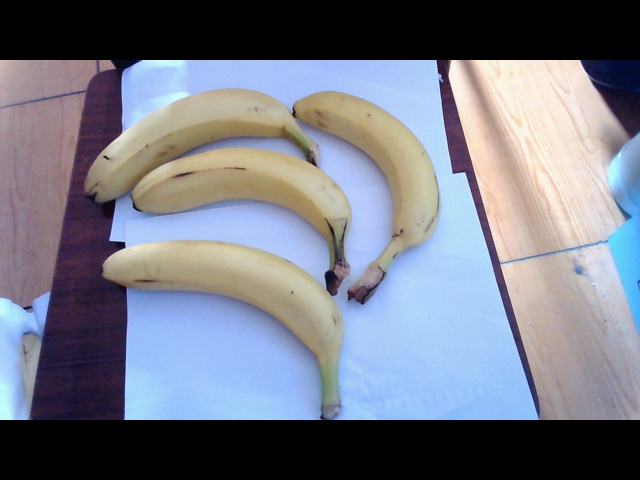banana: (118, 234, 347, 423), (84, 86, 348, 234), (343, 79, 440, 298)
